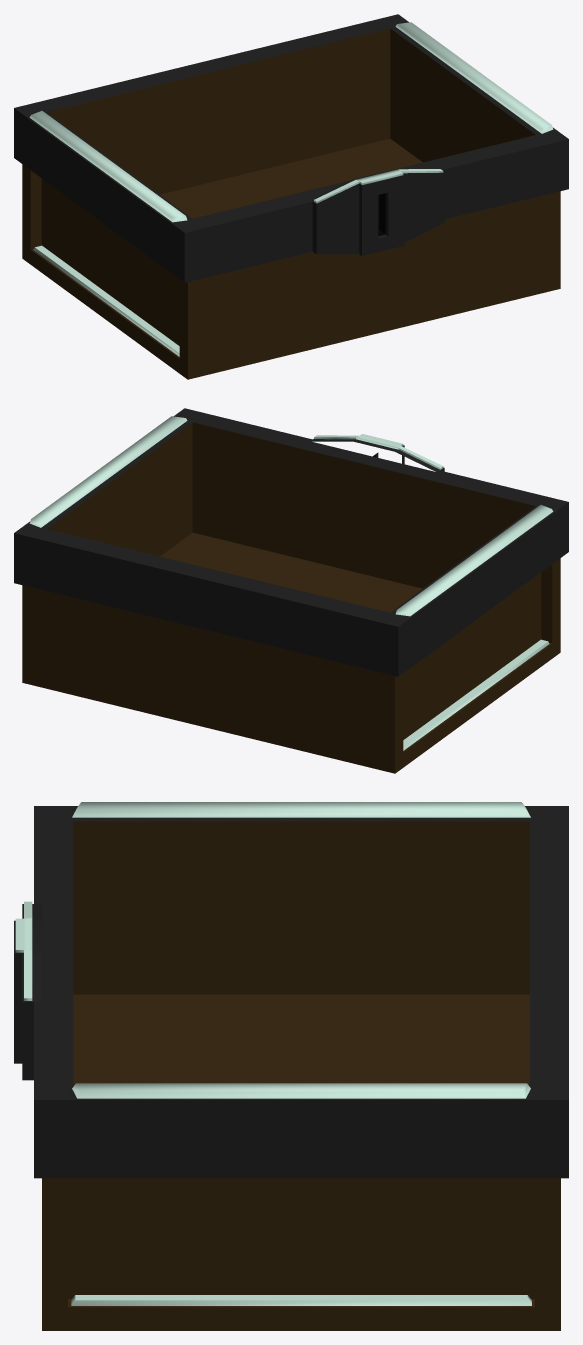
Rendered from winter-chest-bottom-v3.glb.
The picture shows the model from 3 angles, top to bottom: view 1: azimuth 30°, elevation 25°; view 2: azimuth 150°, elevation 25°; view 3: azimuth 270°, elevation 25°; orthographic projection. The views are drawn at different scales.
Parts seen in each view (by area): view 1: WinterChestBottom_v3; view 2: WinterChestBottom_v3; view 3: WinterChestBottom_v3.
Boxes of the visible parts, x1,y1,x2,y2 form: WinterChestBottom_v3: (14, 14, 568, 379); WinterChestBottom_v3: (14, 408, 568, 773); WinterChestBottom_v3: (14, 802, 568, 1330).
Size of the model in its own units: 118 by 47.62 by 94.3.
1 material, 1 textured.
